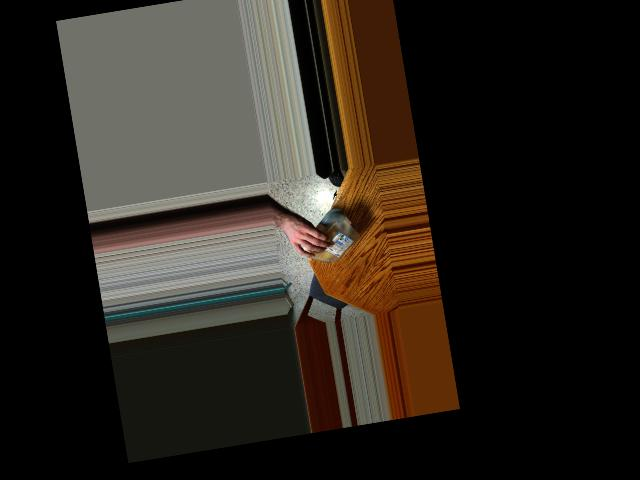cheese: (290, 207, 364, 270)
